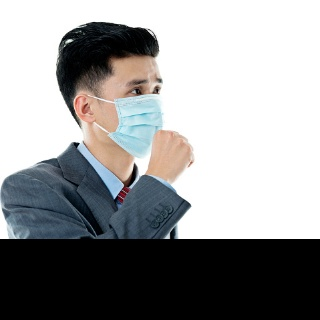with_mask: (96, 73, 163, 156)
